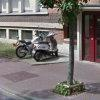Motorcycle: (8, 31, 59, 66)
